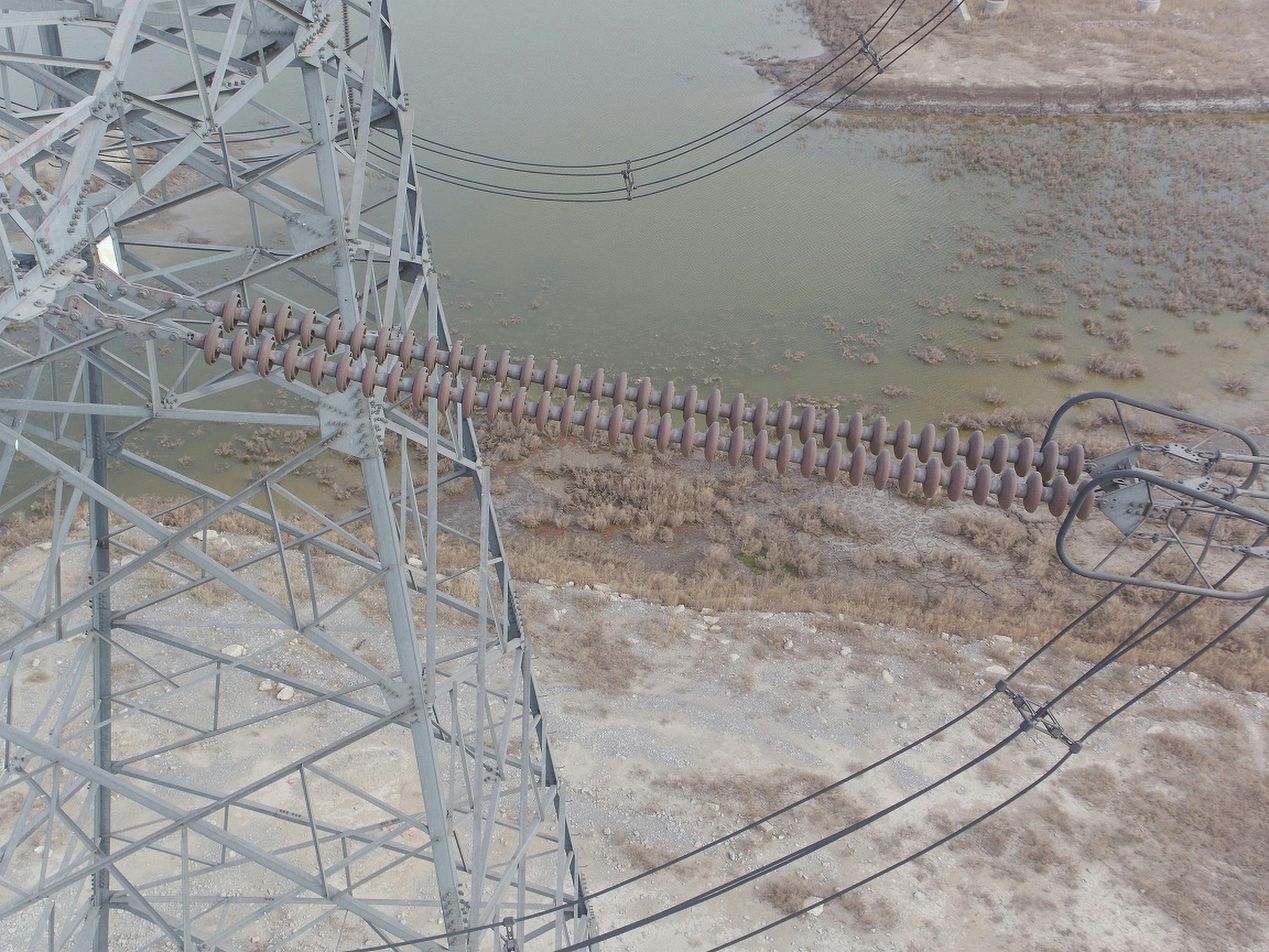insulator: (194, 288, 1100, 526)
